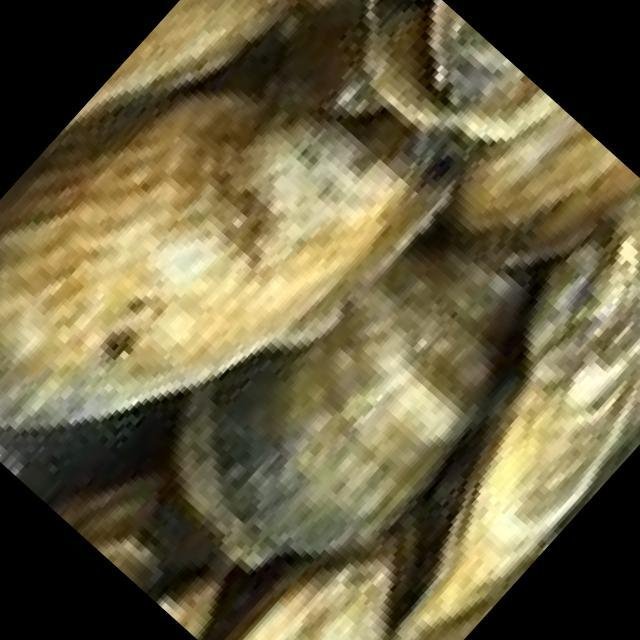Oyster- Indeterminate: (0, 92, 436, 432), (179, 241, 536, 565), (391, 219, 640, 640), (47, 0, 294, 145), (448, 95, 640, 262), (360, 0, 552, 139), (423, 0, 524, 105), (60, 478, 158, 542), (93, 537, 158, 593)
